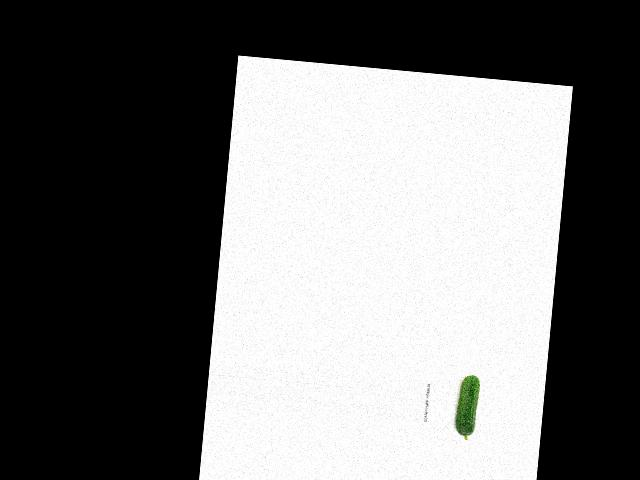cucumber: (454, 373, 480, 440)
